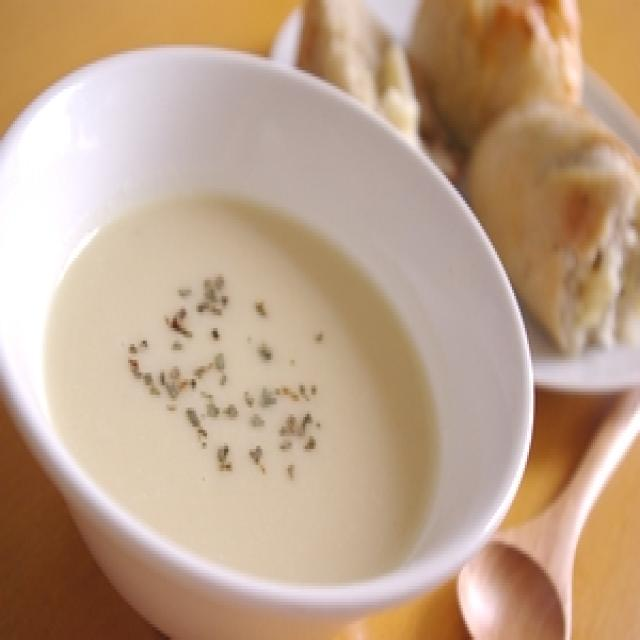汤锅炖物: (0, 22, 533, 639)
